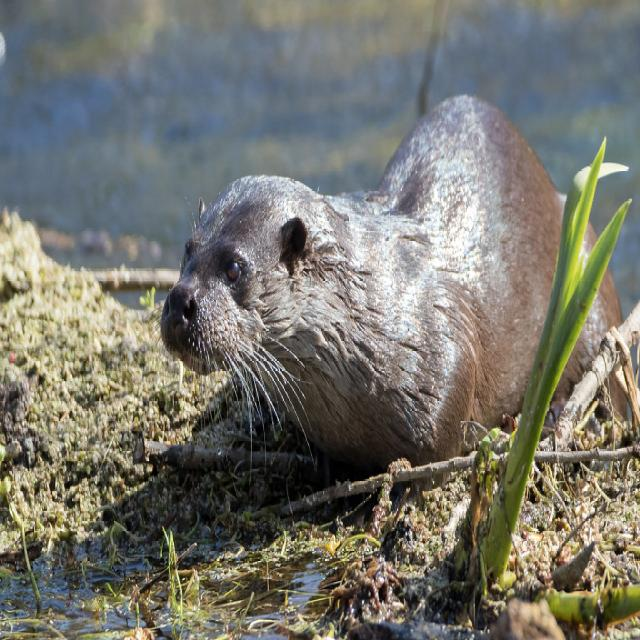otter: (163, 98, 558, 460)
